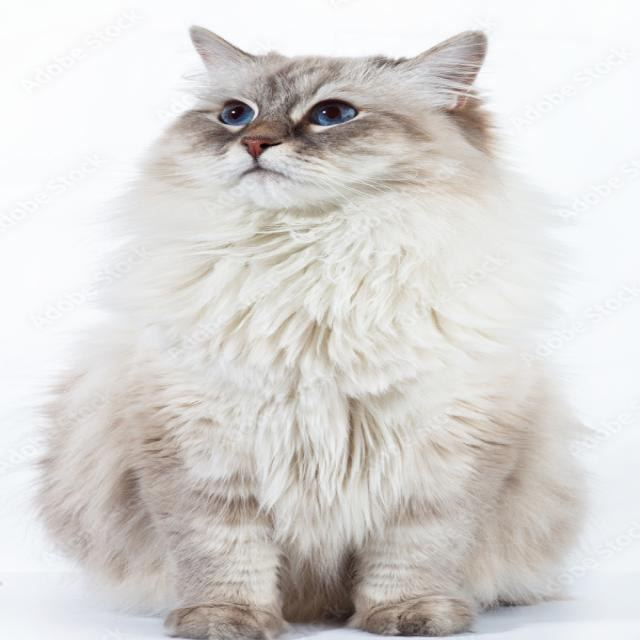Neva Masquerade: (24, 17, 605, 640)
